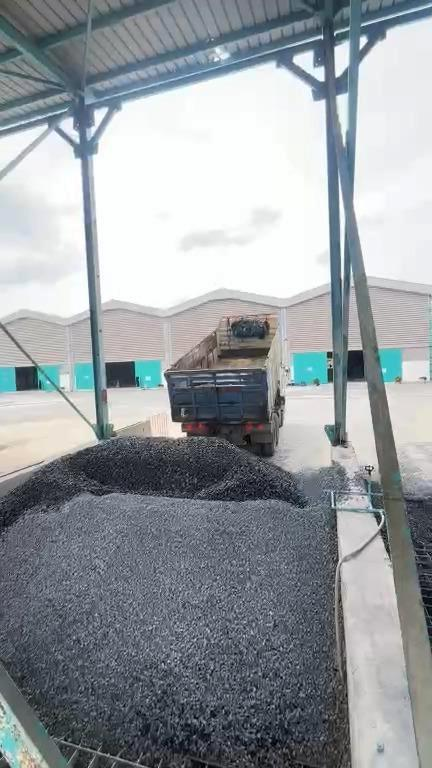gravel: (1, 459, 351, 767), (1, 438, 306, 531), (371, 480, 391, 558), (406, 490, 432, 542)
